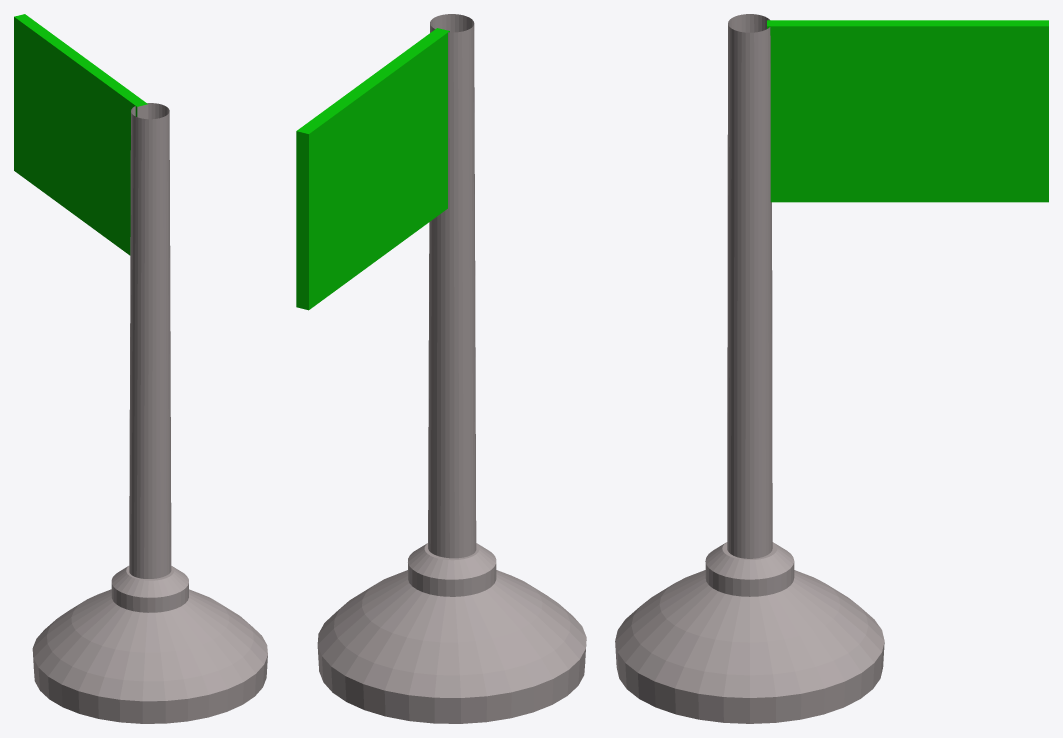
File: checkpointgreen.fbx
3 renders of one model, left to right at view 1: azimuth 30°, elevation 25°; view 2: azimuth 150°, elevation 25°; view 3: azimuth 270°, elevation 25°, orthographic. The views are drawn at different scales.
Visible parts, largest first — view 1: Cylinder; view 2: Cylinder; view 3: Cylinder.
Boxes of the visible parts, bbox=[...] form: Cylinder: bbox=[14, 14, 267, 723]; Cylinder: bbox=[296, 14, 586, 723]; Cylinder: bbox=[615, 14, 1048, 723].
Bounding box in the file's own units: 146 × 385 × 235.
